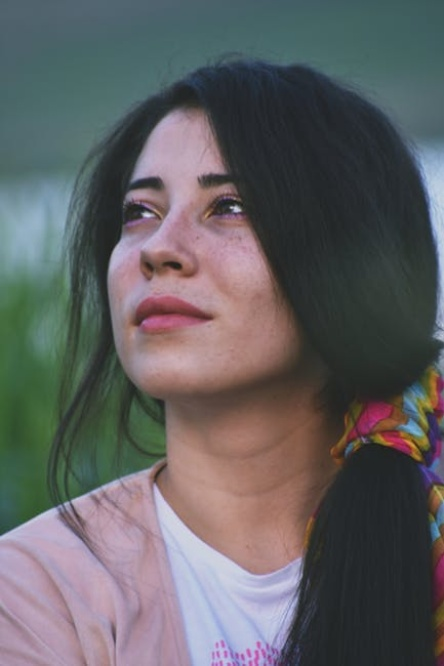face: (107, 108, 290, 392)
